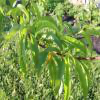Peach leaf: (71, 57, 87, 99), (19, 24, 30, 80), (60, 35, 86, 56), (34, 21, 59, 38), (55, 59, 65, 100), (39, 32, 62, 49), (37, 48, 49, 80), (30, 34, 39, 72), (79, 59, 90, 90), (5, 23, 19, 47), (64, 53, 71, 100), (84, 26, 100, 40), (49, 60, 54, 94), (33, 2, 40, 18)
